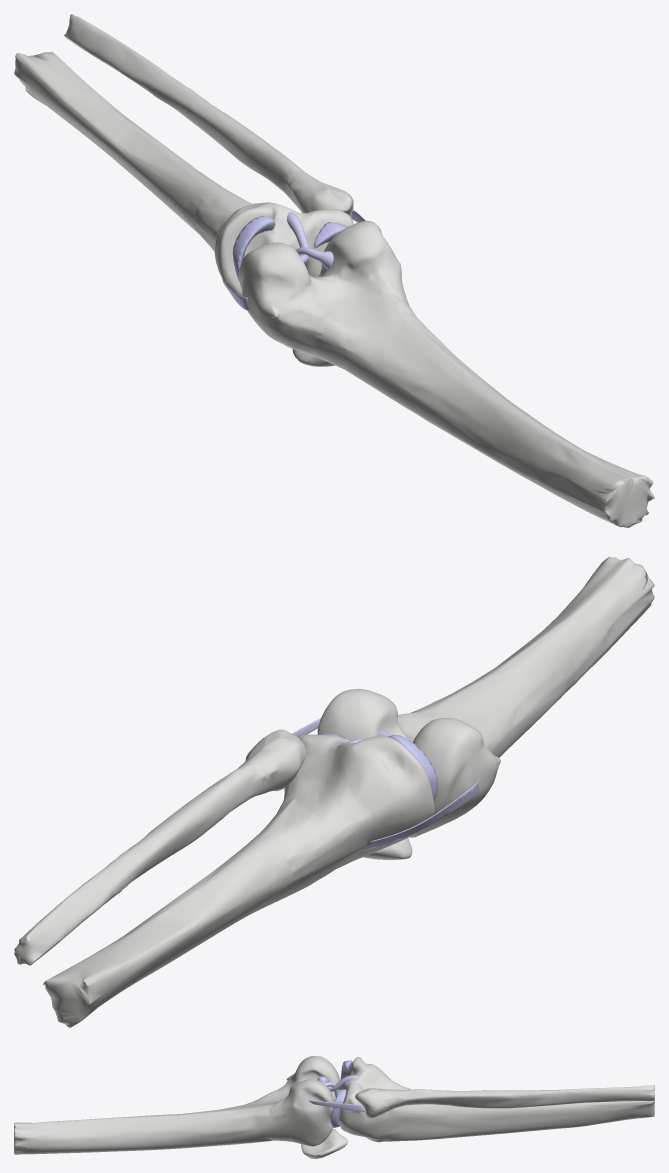
Rendered from knee-z.draco.glb.
The picture shows the model from 3 angles, top to bottom: view 1: azimuth 30°, elevation 25°; view 2: azimuth 150°, elevation 25°; view 3: azimuth 270°, elevation 25°; orthographic projection. The views are drawn at different scales.
Visible parts, largest first — view 1: femur, tibia, fibula, meniscus_medial; view 2: tibia, femur, fibula, mcl, meniscus_medial; view 3: femur, tibia, fibula, patella, lcl, meniscus_lateral, pcl.
Boxes of the visible parts, x1=… form: femur: x1=238, y1=220, x2=654, y2=527; tibia: x1=14, y1=51, x2=353, y2=296; fibula: x1=64, y1=14, x2=353, y2=216; meniscus_medial: x1=232, y1=216, x2=275, y2=281; tibia: x1=43, y1=734, x2=434, y2=1027; femur: x1=317, y1=556, x2=654, y2=837; fibula: x1=14, y1=729, x2=305, y2=965; mcl: x1=361, y1=778, x2=479, y2=850; meniscus_medial: x1=388, y1=734, x2=437, y2=801; femur: x1=14, y1=1056, x2=340, y2=1154; tibia: x1=339, y1=1057, x2=654, y2=1142; fibula: x1=355, y1=1084, x2=654, y2=1118; patella: x1=301, y1=1128, x2=347, y2=1158; lcl: x1=308, y1=1100, x2=365, y2=1111; meniscus_lateral: x1=330, y1=1089, x2=346, y2=1127; pcl: x1=317, y1=1075, x2=357, y2=1091.
Bounding box in the file's own units: 87.64 × 75.09 × 530.
